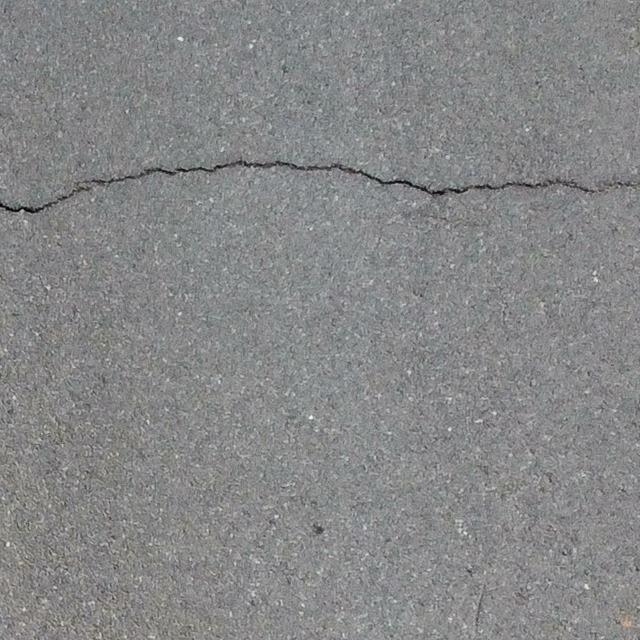TransverseCrack: (1, 158, 640, 215)
